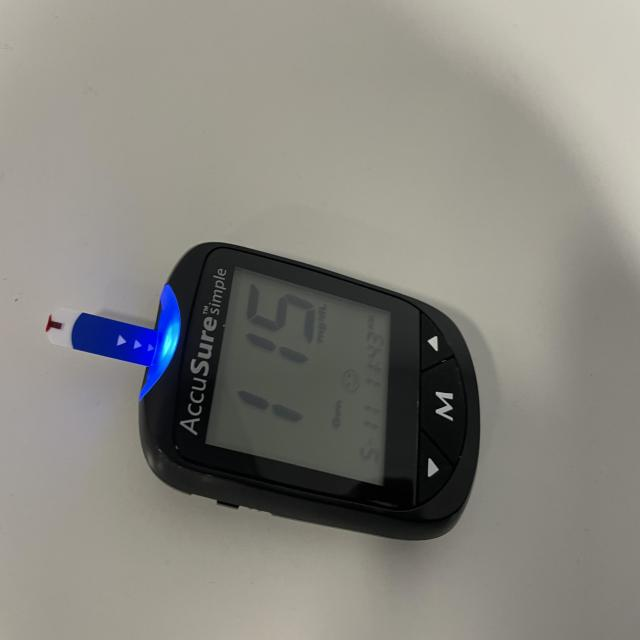gluco: (72, 244, 484, 537)
